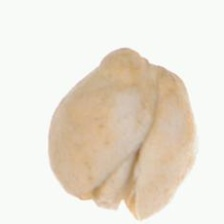L3: (79, 144, 144, 222)
L4: (48, 48, 196, 221)
